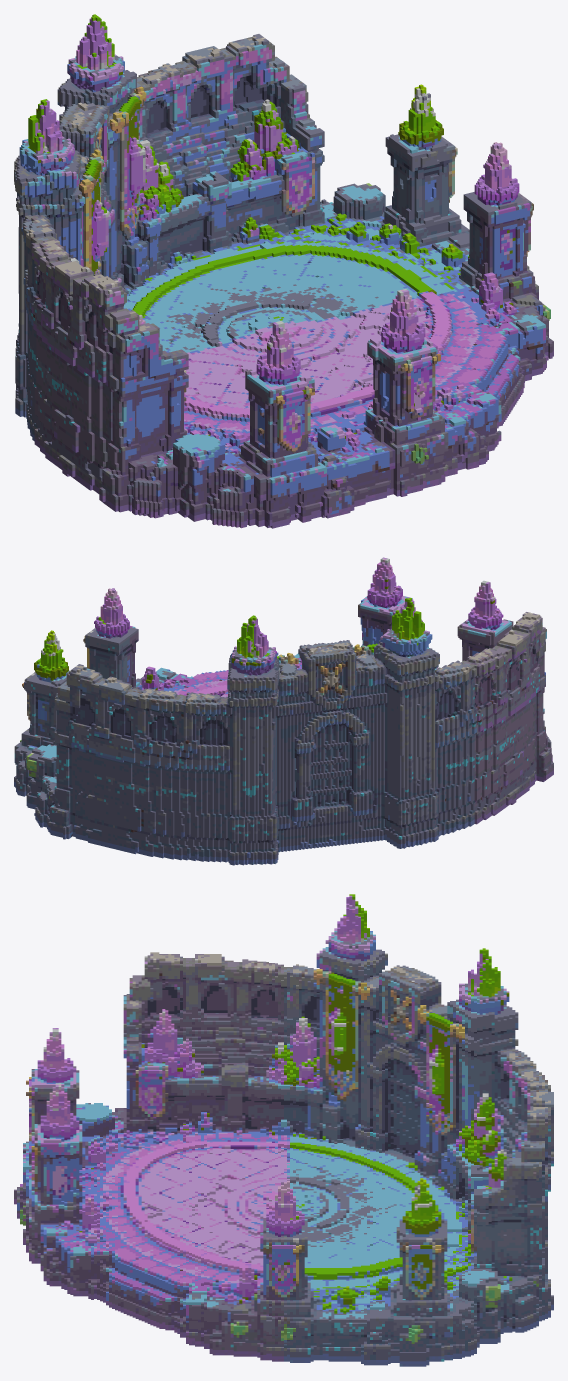
Rendered from chikiseum_voxel.glb.
3 renders of one model, top to bottom at view 1: azimuth 30°, elevation 25°; view 2: azimuth 150°, elevation 25°; view 3: azimuth 270°, elevation 25°, orthographic. The views are drawn at different scales.
Size of the model in its own units: 181 by 101 by 182.
